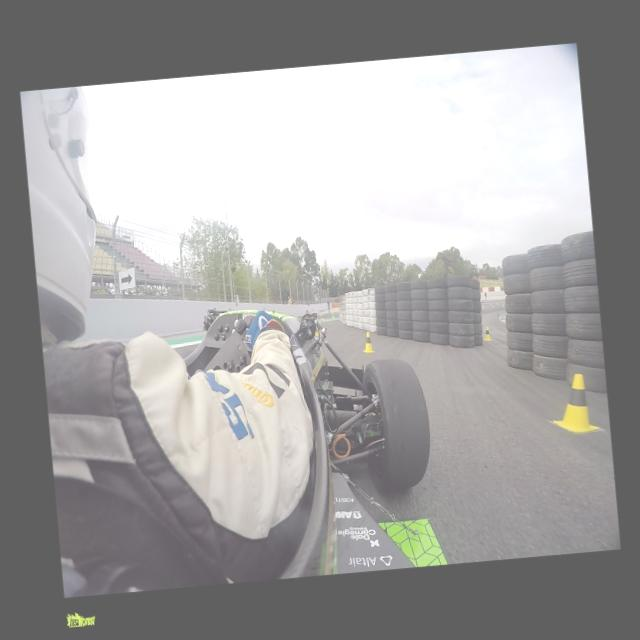yellow_cone: (548, 373, 598, 436), (360, 331, 374, 354), (482, 326, 491, 341), (314, 329, 320, 336), (320, 314, 324, 320), (331, 312, 334, 318)
